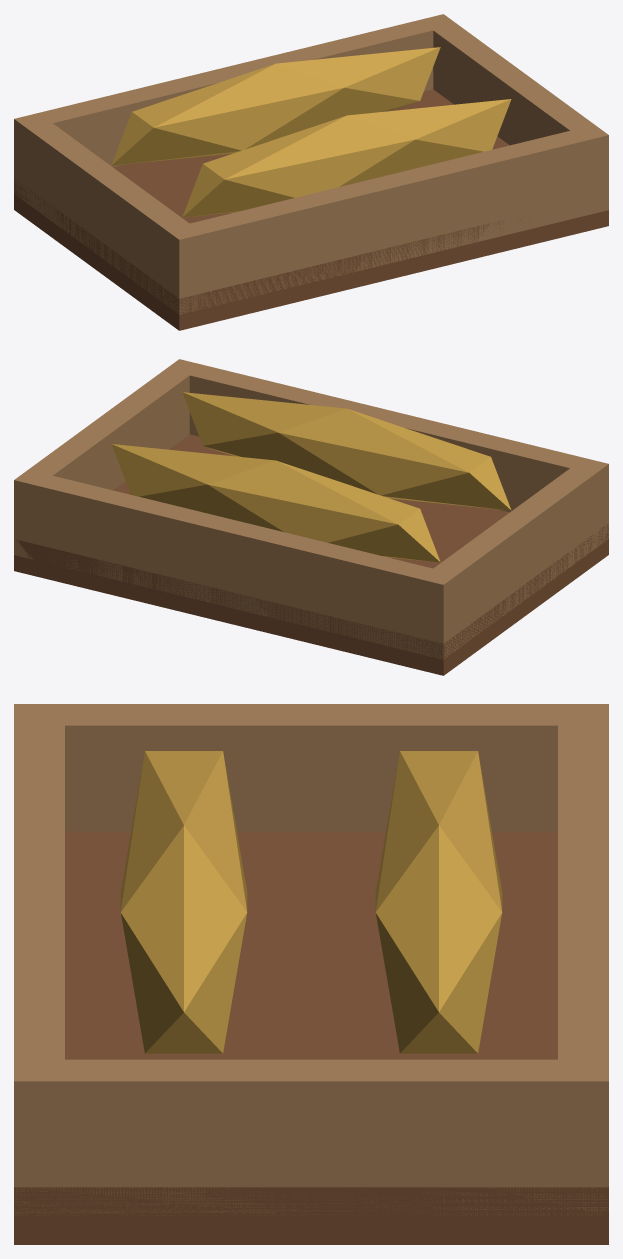
Rendered from set_baguette_board.glb.
3 renders of one model, top to bottom at view 1: azimuth 30°, elevation 25°; view 2: azimuth 150°, elevation 25°; view 3: azimuth 270°, elevation 25°, orthographic. The views are drawn at different scales.
Visible parts, largest first — view 1: set_baguette_board; view 2: set_baguette_board; view 3: set_baguette_board.
Boxes of the visible parts, left/top/right/bottom form: set_baguette_board: left=14, top=14, right=608, bottom=330; set_baguette_board: left=14, top=359, right=608, bottom=675; set_baguette_board: left=14, top=704, right=608, bottom=1244.
Size of the model in its own units: 0.42 by 0.12 by 0.28.
